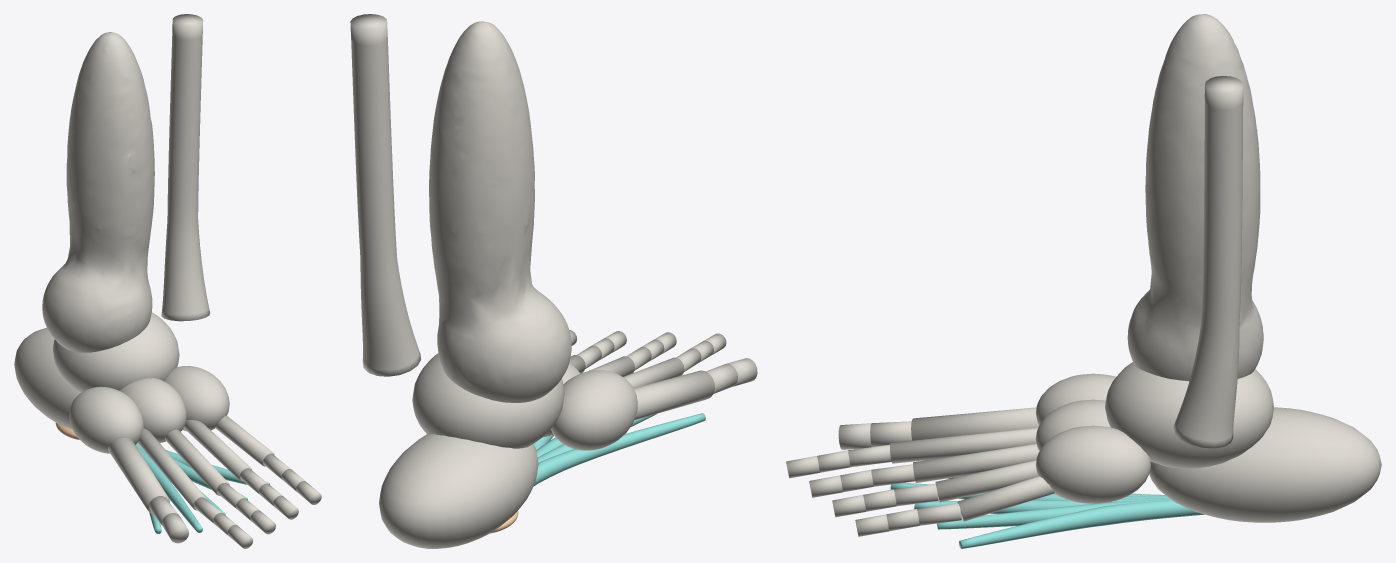
File: plantar-fascia.glb
3 views of the same model, side by side, from view 1: azimuth 30°, elevation 25°; view 2: azimuth 150°, elevation 25°; view 3: azimuth 270°, elevation 25° (orthographic). The views are drawn at different scales.
Visible parts, largest first — view 1: static #eee5d3, static #49bdb4; view 2: static #eee5d3, static #49bdb4; view 3: static #eee5d3, static #49bdb4.
Part boxes in pixels (x1=…): static #eee5d3: x1=14, y1=14, x2=321, y2=548; static #49bdb4: x1=135, y1=443, x2=269, y2=533; static #eee5d3: x1=350, y1=14, x2=757, y2=548; static #49bdb4: x1=533, y1=413, x2=705, y2=486; static #eee5d3: x1=786, y1=14, x2=1381, y2=536; static #49bdb4: x1=890, y1=477, x2=1204, y2=548.
Size of the model in its own units: 0.1374 by 0.2903 by 0.3098.
